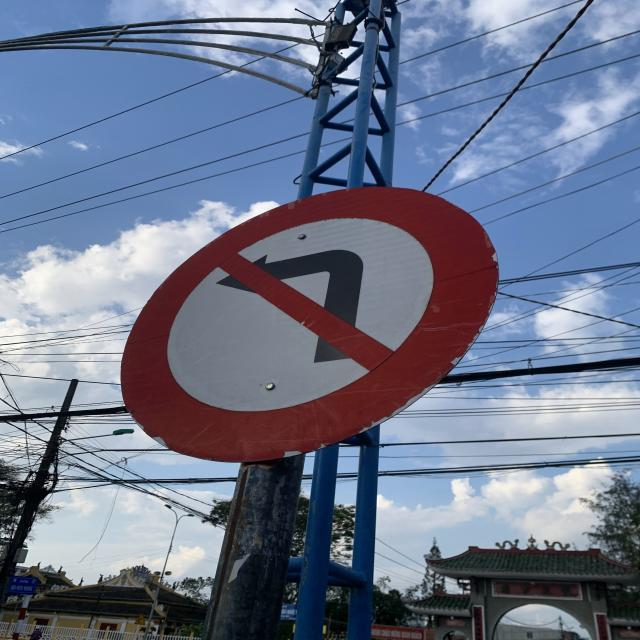Cam_Re_Trai: (119, 186, 502, 462)
